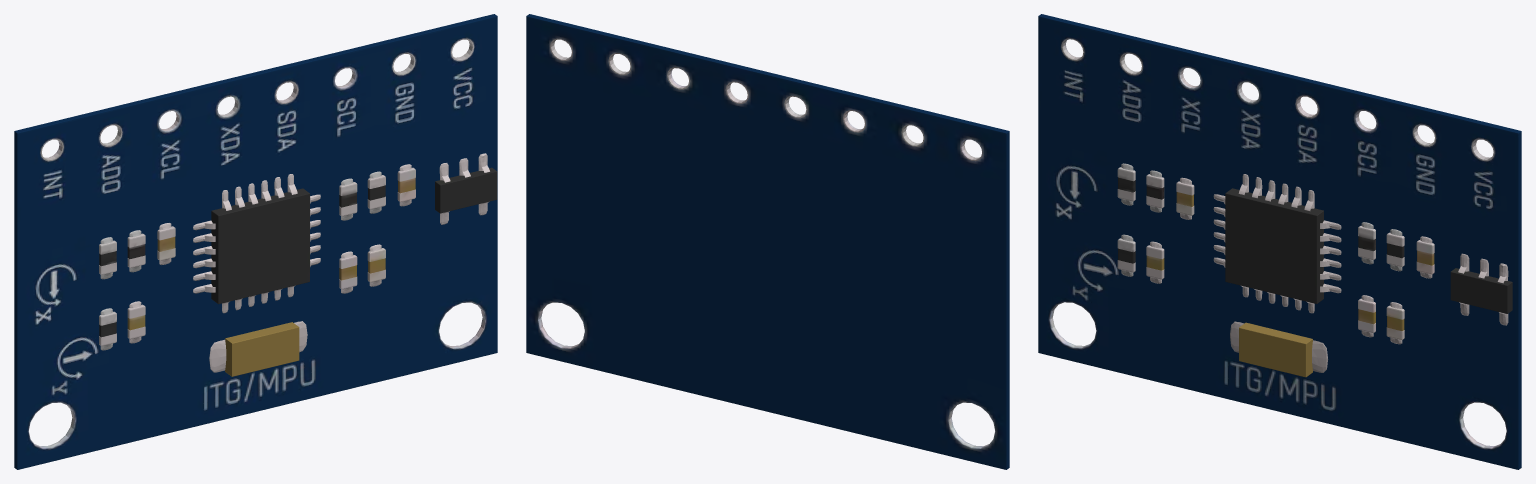
The model's file is imu-accelerometer-gyroscope.glb.
3 renders of one model, left to right at view 1: azimuth 30°, elevation 25°; view 2: azimuth 150°, elevation 25°; view 3: azimuth 330°, elevation 25°, orthographic.
Visible parts, largest first — view 1: part_0; view 2: part_0; view 3: part_0.
Part boxes in pixels (x1,y1,x2,y2): part_0: (14,14,497,469); part_0: (526,14,1009,469); part_0: (1038,14,1521,469).
Bounding box in the file's own units: 3.29 × 2.2 × 0.1224.
Materials: 1 (1 with a texture image).
